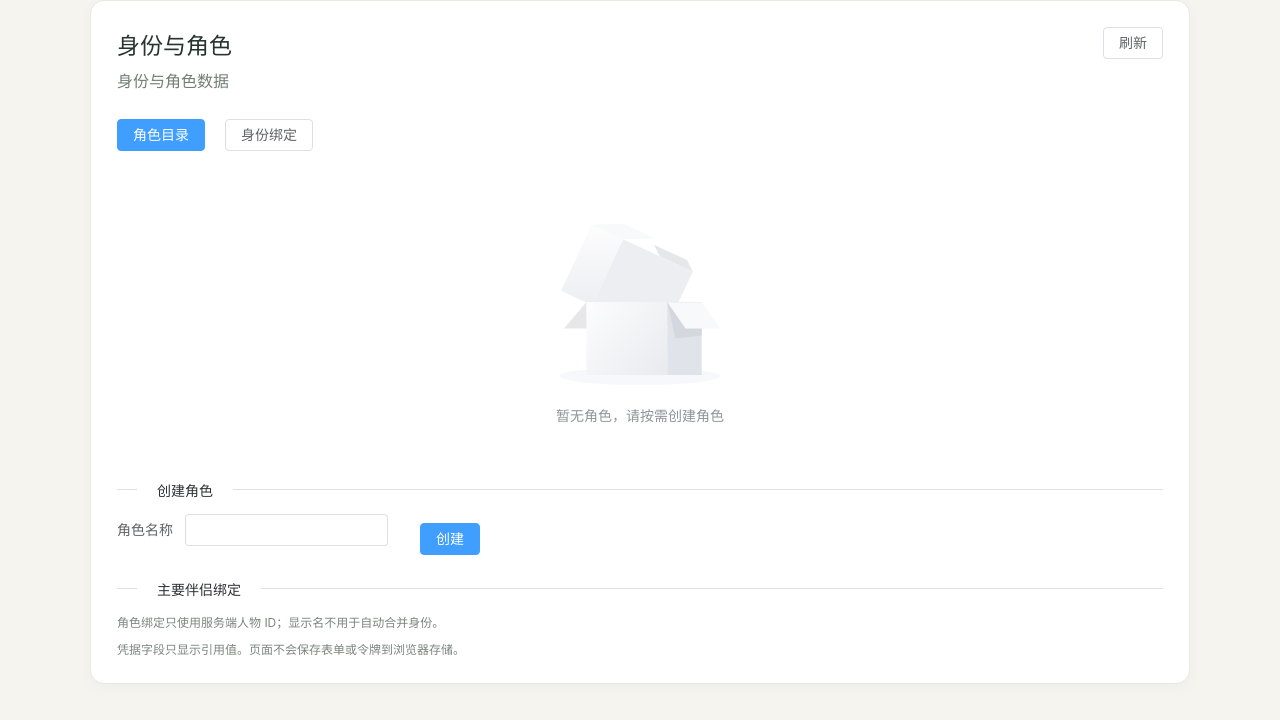
Test: AdminPanel › redacts opaque top-level and nested secret keys in a rendered record
The width and height of the screenshot is (1280, 720).
Click the button "身份绑定": (269, 135) [225,119,313,151]
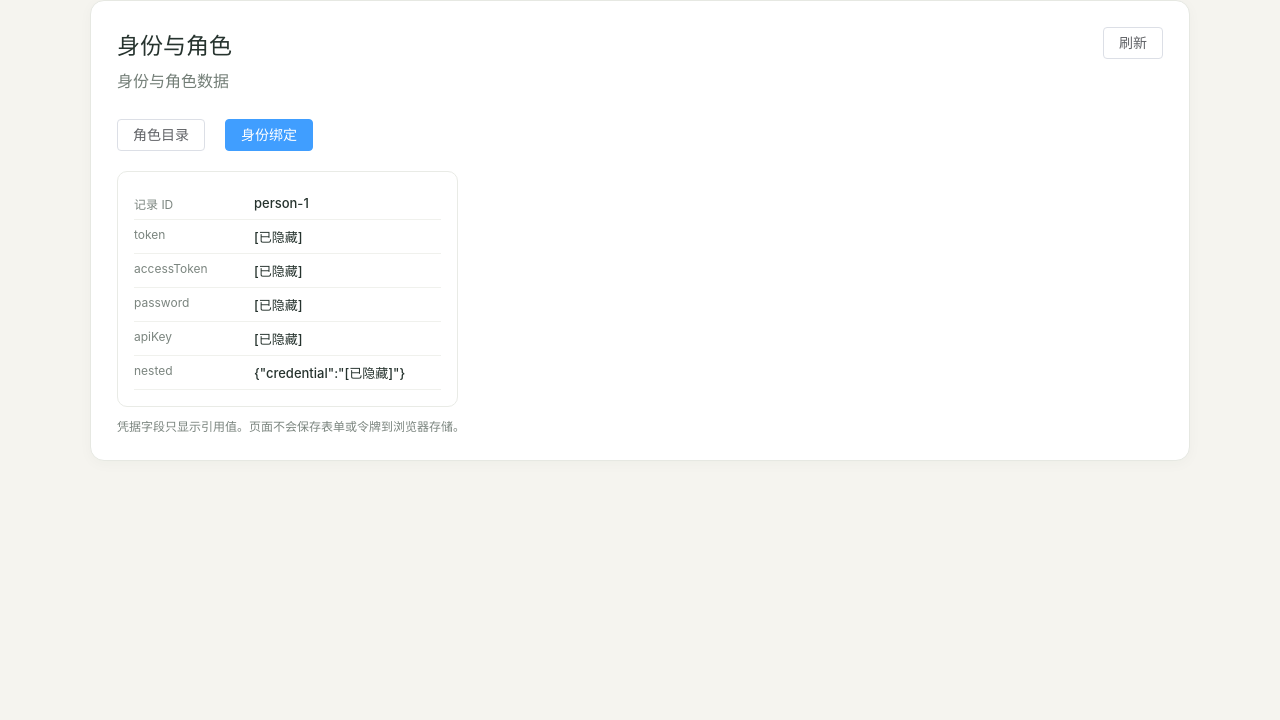
Result: the text "person-1" is shown at [254,195,309,211]
